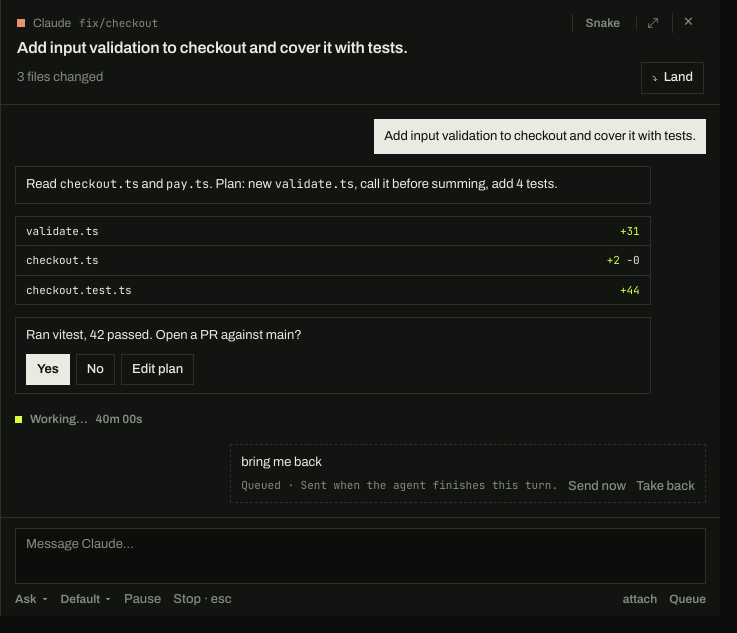
Test case: ChatPane queue (messages sent mid-turn) › Take back unqueues the message and puts its text into the composer draft
Click the button "Take back" at (666, 486), box [636,479,695,493]
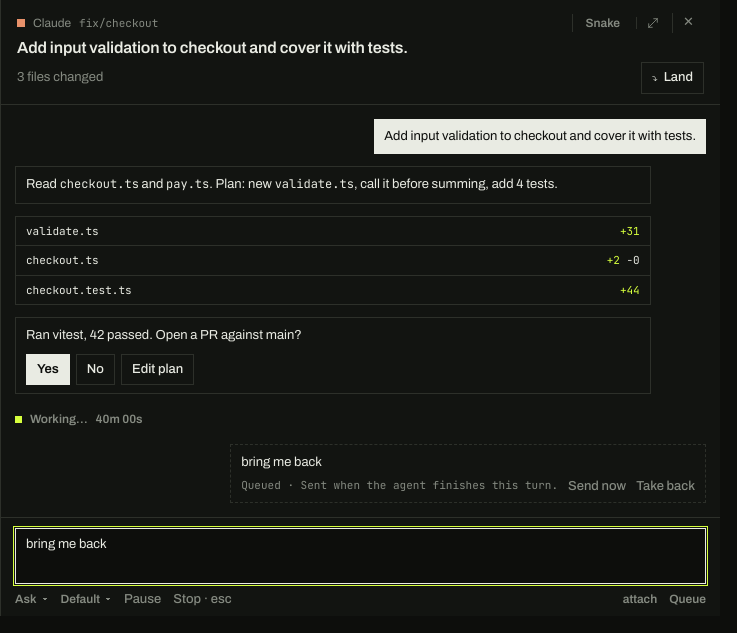
Check: the text box with placeholder "Message Claude…" holds "bring me back", box [15,528,706,584]
